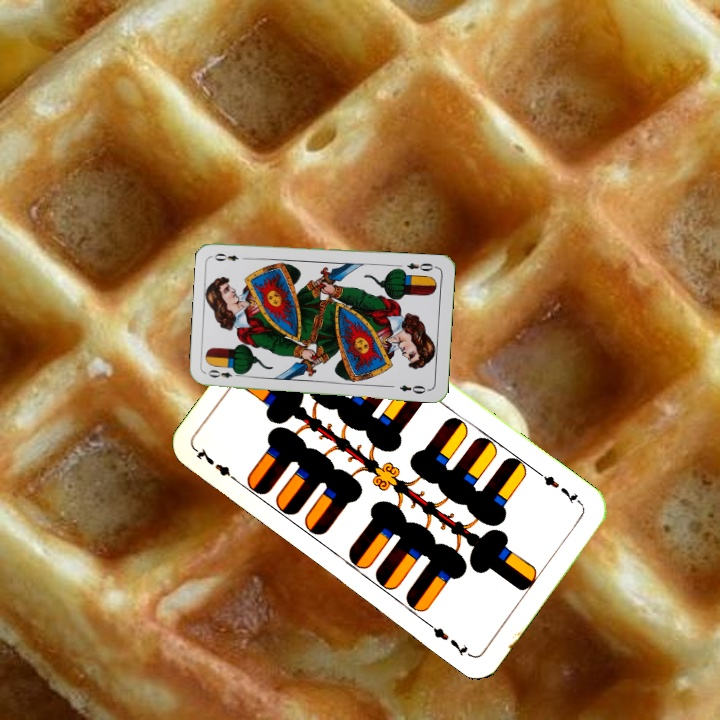E7: (191, 444, 242, 486), (534, 468, 585, 508)
EO: (204, 366, 244, 381), (403, 259, 439, 273)
